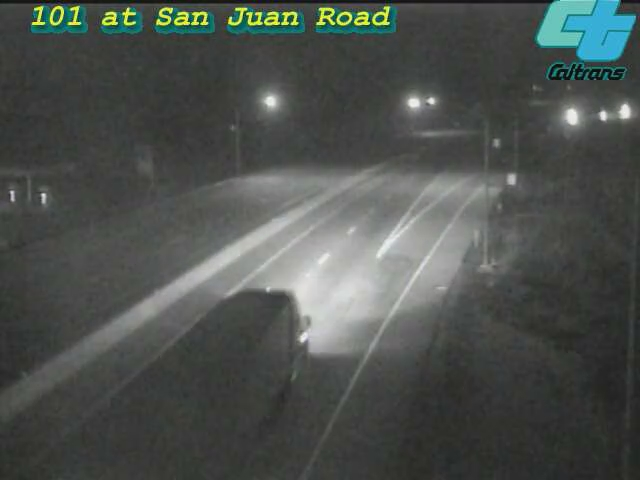vehicle: (156, 328, 266, 438), (578, 92, 628, 142), (543, 91, 593, 141), (600, 86, 640, 136)
